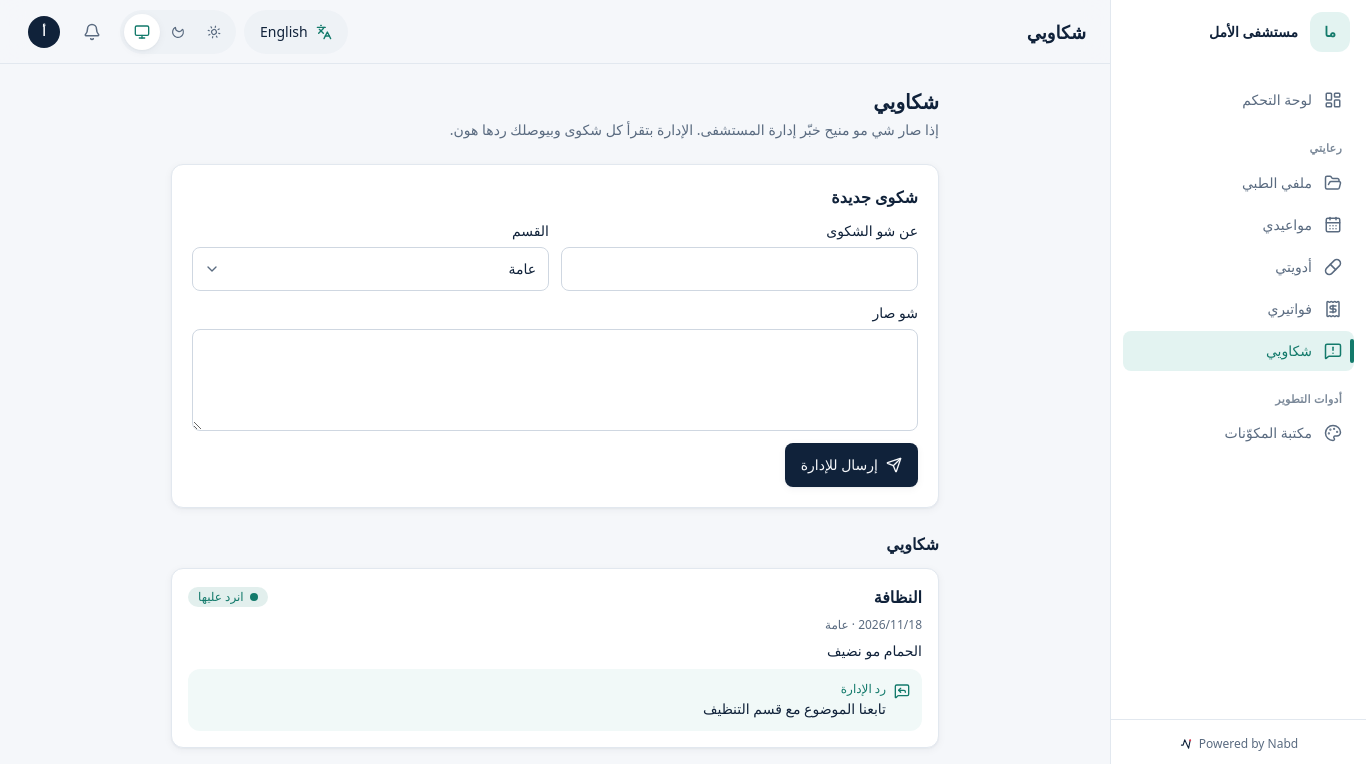
Test case: ComplaintsPage (task 4.8) › sends a complaint and shows the administration’s answers
Expected: the text "تابعنا الموضوع مع قسم التنظيف" is shown, [703,699,886,719]
Click the button "إرسال للإدارة" at (851, 465), box [785,443,918,487]
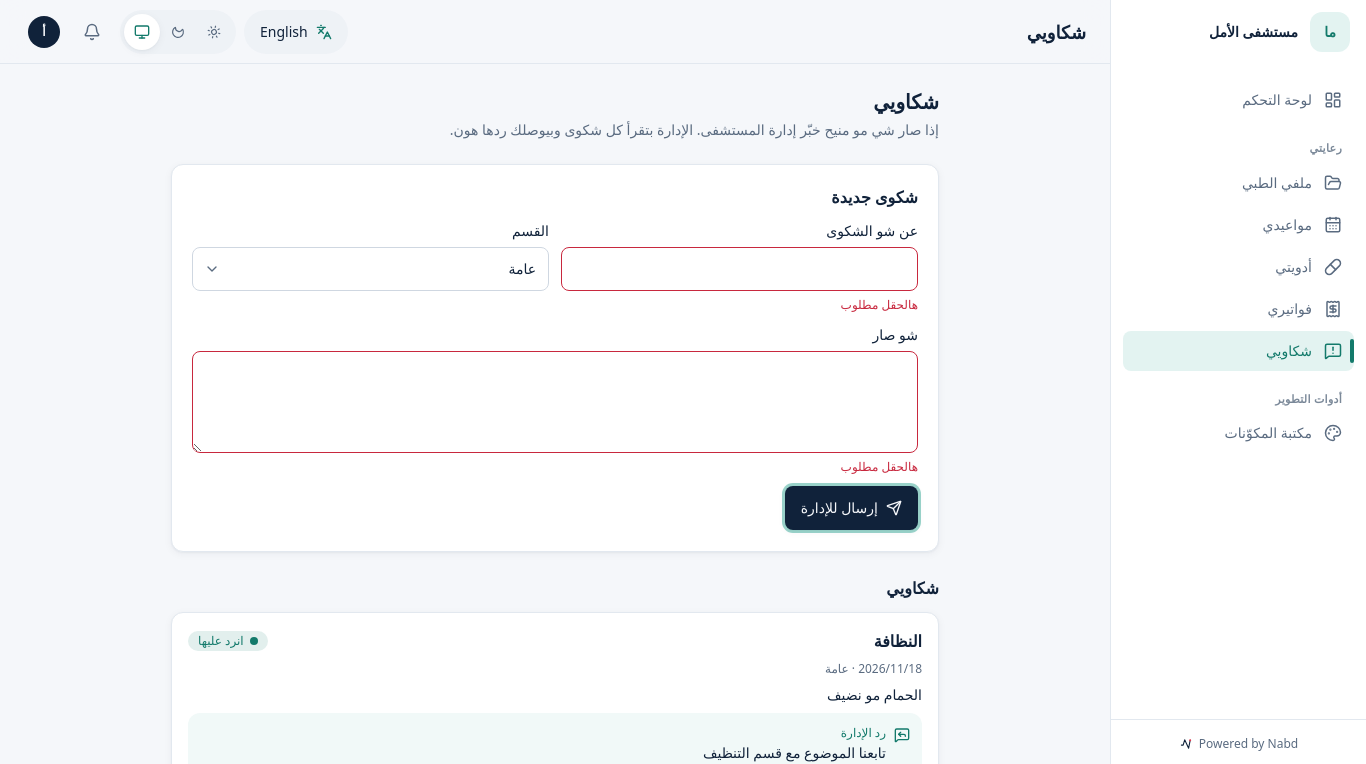
Expected: the text "هالحقل مطلوب" is shown 2 times, [841,296,918,313]; [841,458,918,475]
Type "تأخير" into the field labelled "عن شو الشكوى" at (740, 269), box [561,247,918,291]
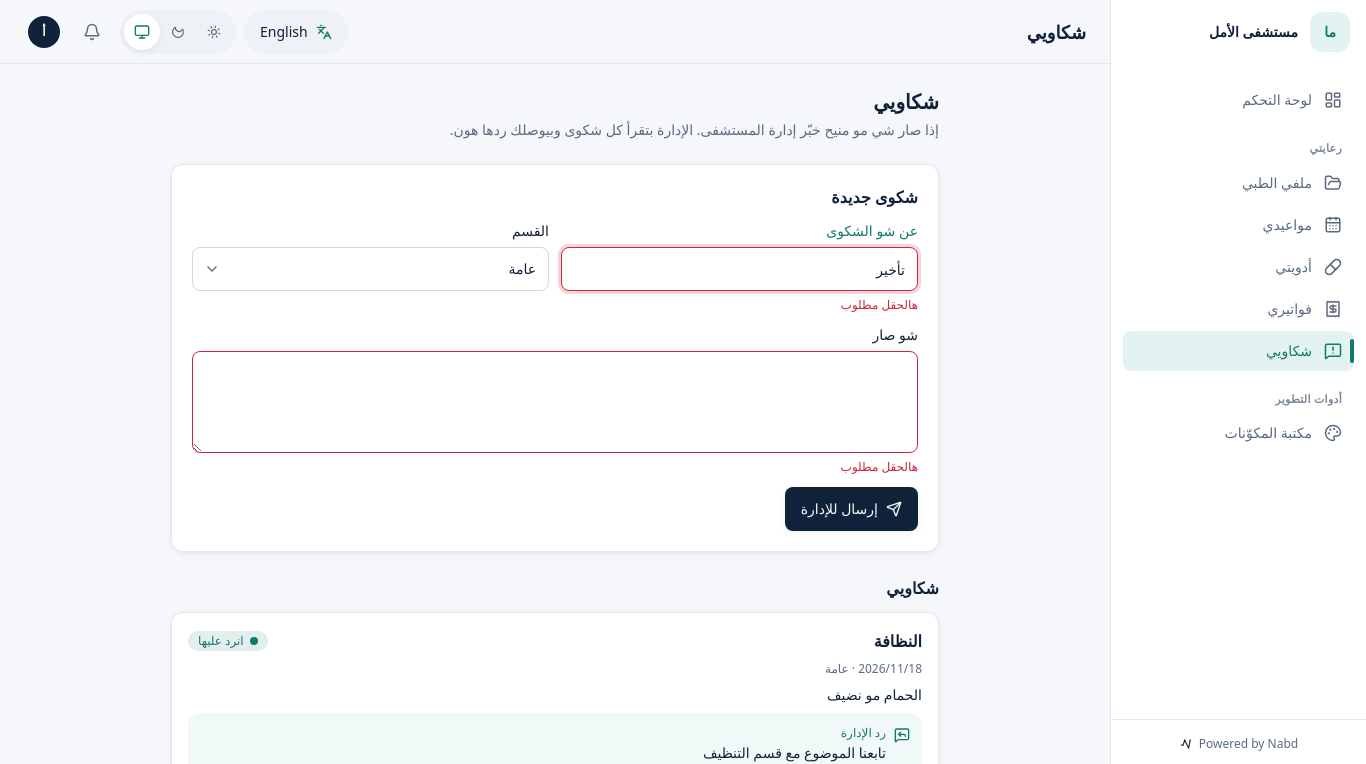
Type "استنيت ساعتين" into the text box labelled "شو صار" at (555, 402), box [192,351,918,453]
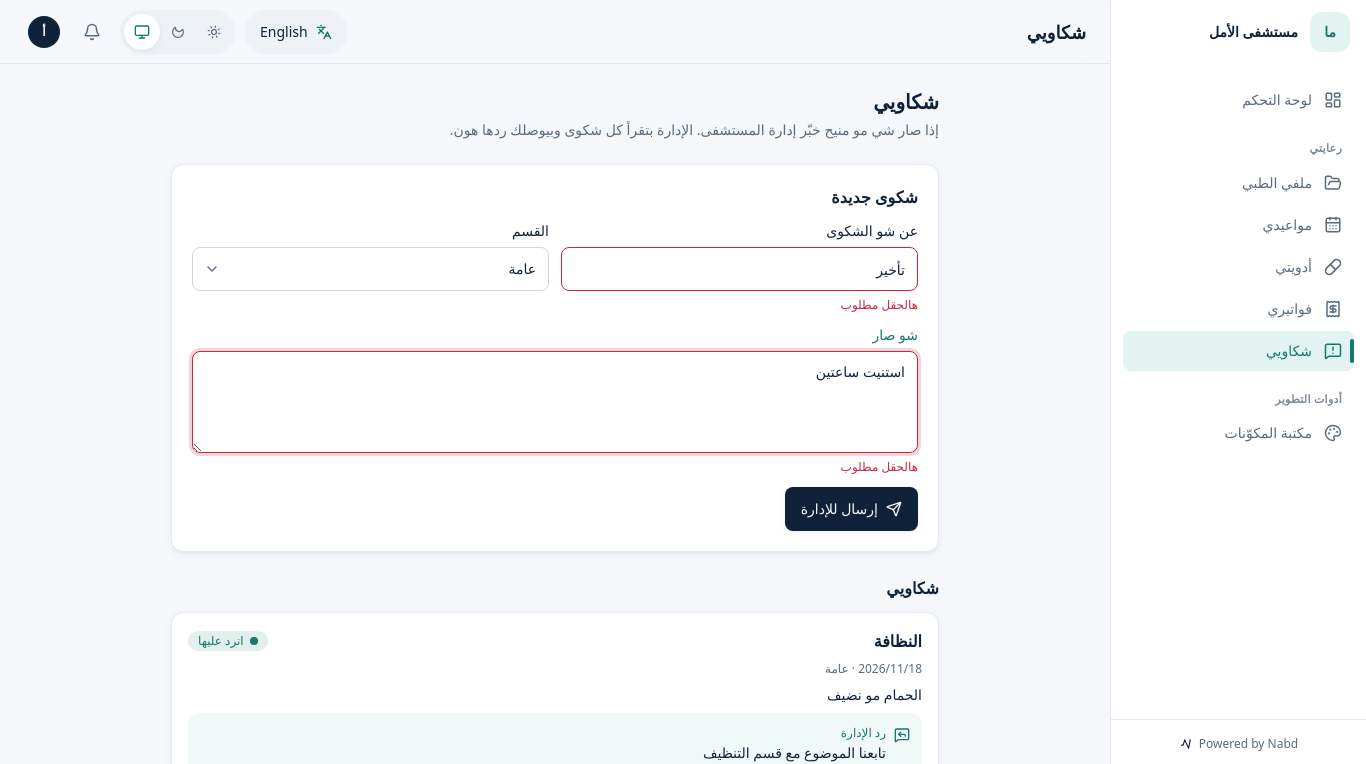
Click the button "إرسال للإدارة" at (851, 509), box [785,487,918,531]
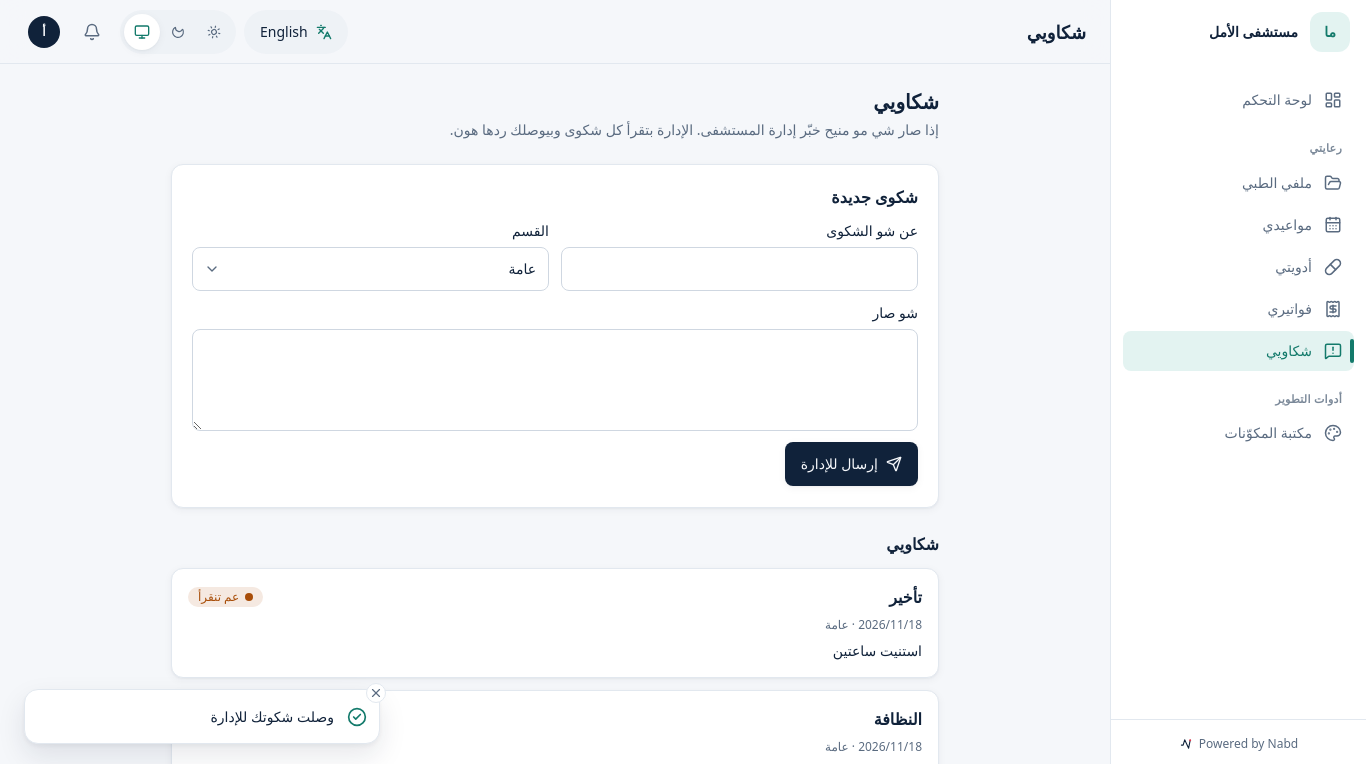
Expected: the text "عم تنقرأ" is shown, [188,587,263,607]
